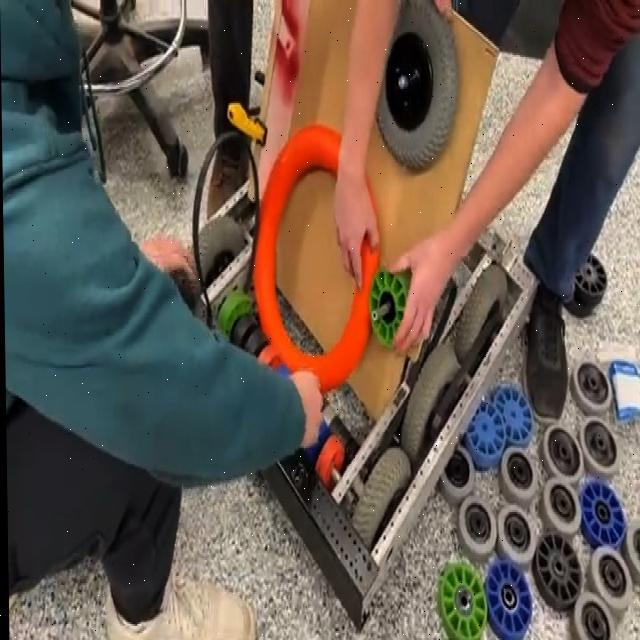note: (249, 120, 384, 396)
